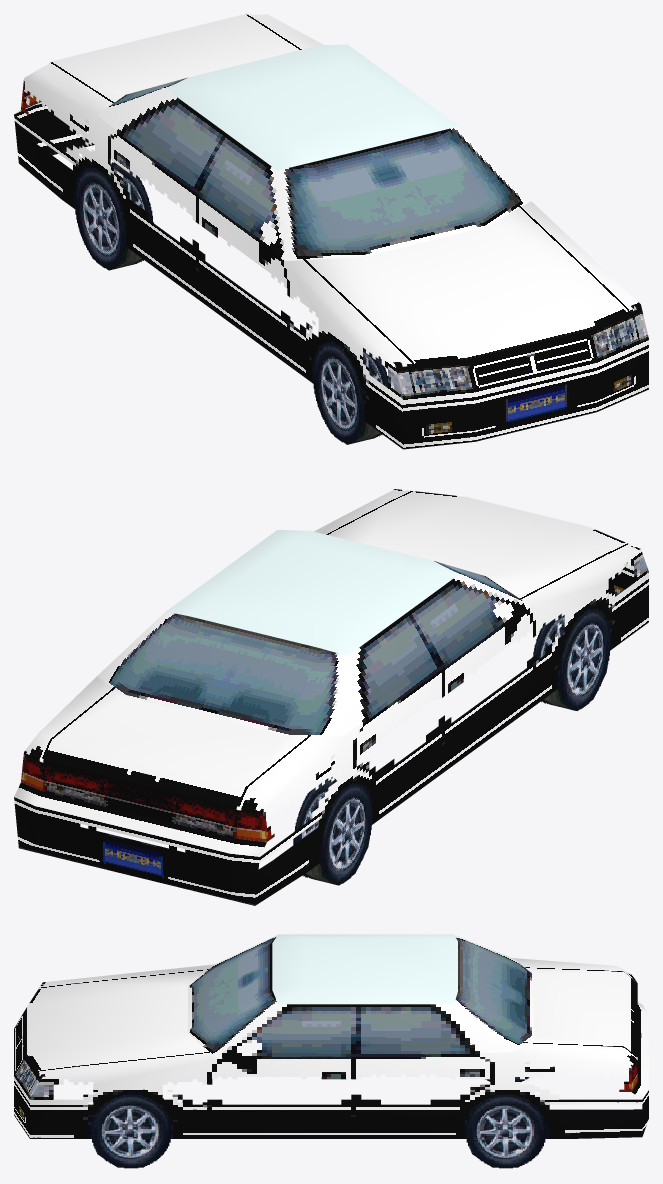
Rendered from traffic-184.glb.
3 views of the same model, one above another, from view 1: azimuth 30°, elevation 25°; view 2: azimuth 150°, elevation 25°; view 3: azimuth 270°, elevation 25° (orthographic). The views are drawn at different scales.
Visible parts, largest first — view 1: body, rear axle wheels, front axle wheels; view 2: body, rear axle wheels, front axle wheels; view 3: body, rear axle wheels, front axle wheels.
Boxes of the visible parts, x1=… form: body: x1=14, y1=14, x2=648, y2=449; rear axle wheels: x1=74, y1=162, x2=153, y2=269; front axle wheels: x1=312, y1=342, x2=387, y2=443; body: x1=14, y1=489, x2=648, y2=905; rear axle wheels: x1=293, y1=777, x2=372, y2=884; front axle wheels: x1=532, y1=609, x2=610, y2=710; body: x1=14, y1=934, x2=648, y2=1167; rear axle wheels: x1=465, y1=1059, x2=546, y2=1168; front axle wheels: x1=90, y1=1094, x2=171, y2=1168.
Bounding box in the file's own units: 17.8 × 14.1 × 50.48.
Materials: 6 (6 with a texture image).
